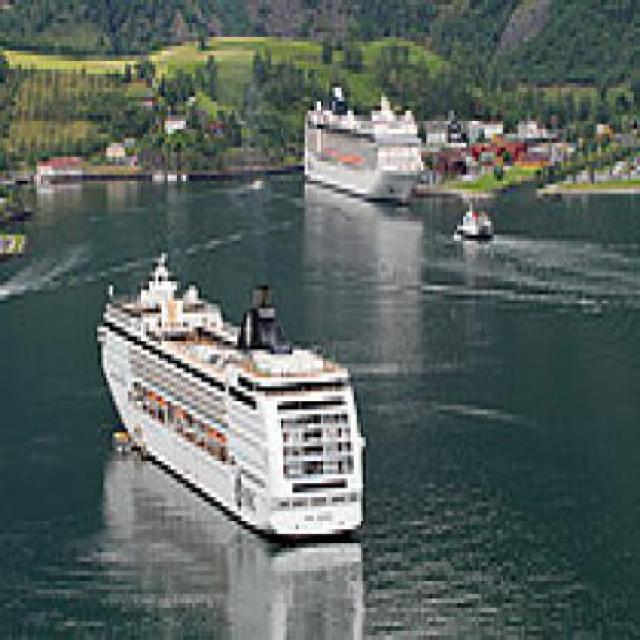cruise: (93, 245, 382, 577), (303, 89, 430, 227)
